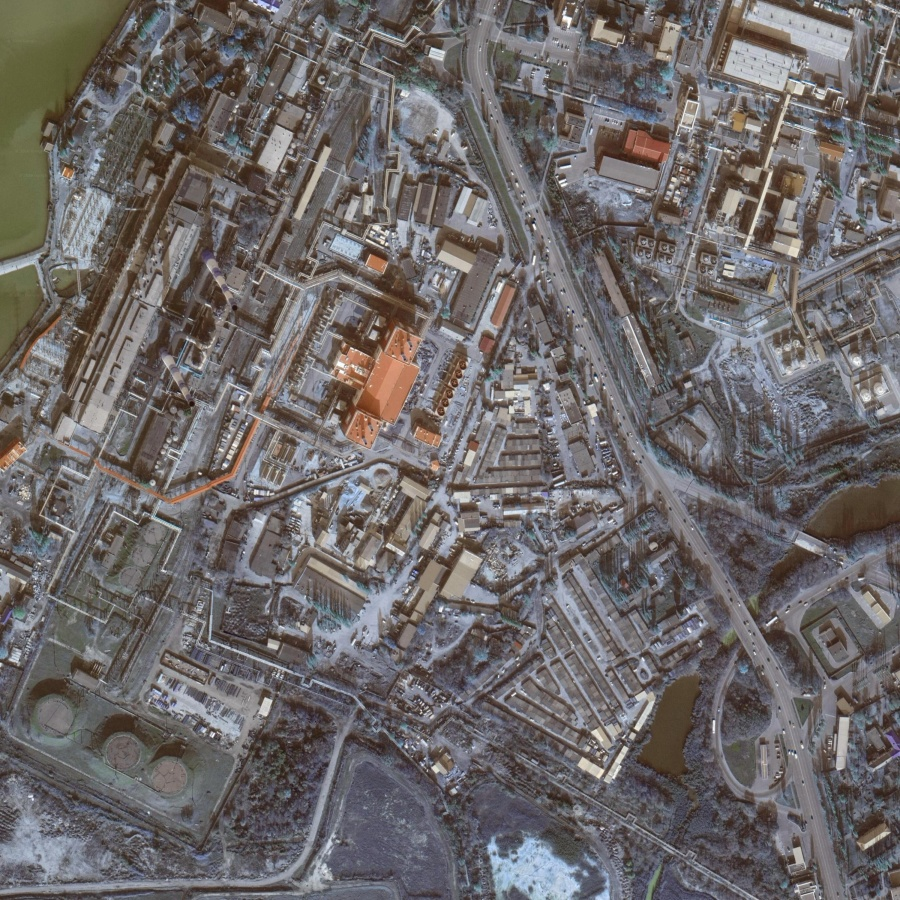PowerPlant: (26, 100, 299, 509), (18, 514, 204, 808)
